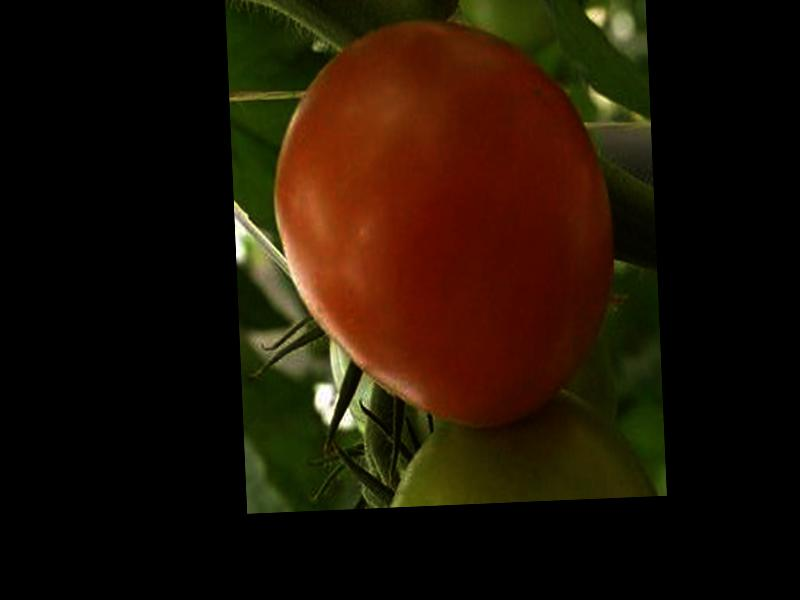Tomato: (265, 12, 620, 434)
